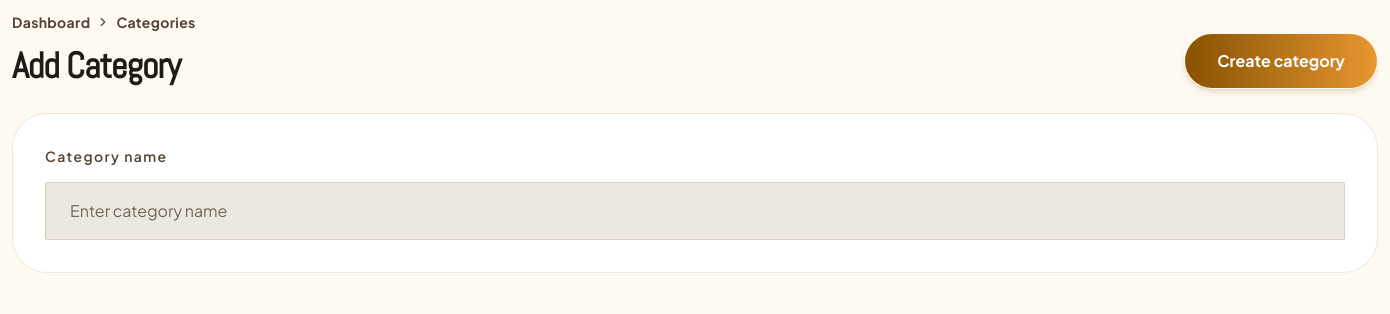
Scenario: CategoryForm › shows a required error and does not submit when the name is empty
The image size is (1390, 314).
Step 1. Click the button "Create category" → click(1281, 61), box [1184,33,1378,89]
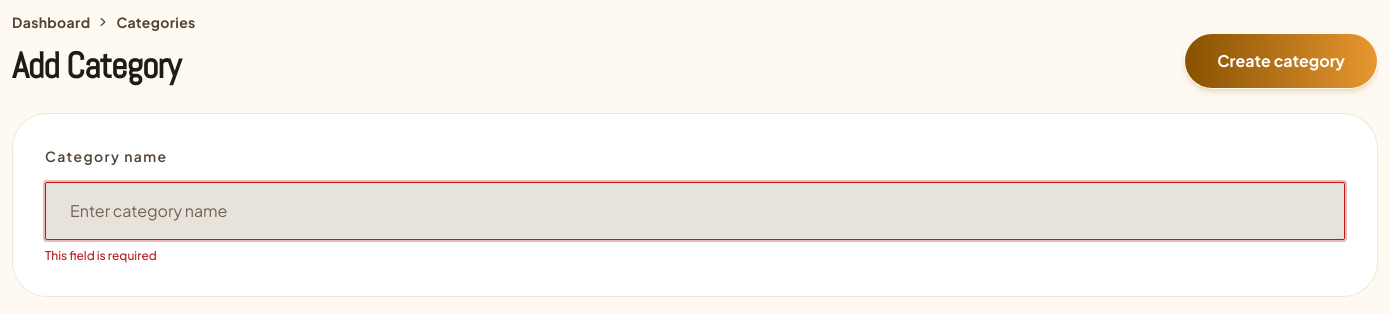
Check: the text "This field is required" is shown, box [45,248,157,263]
